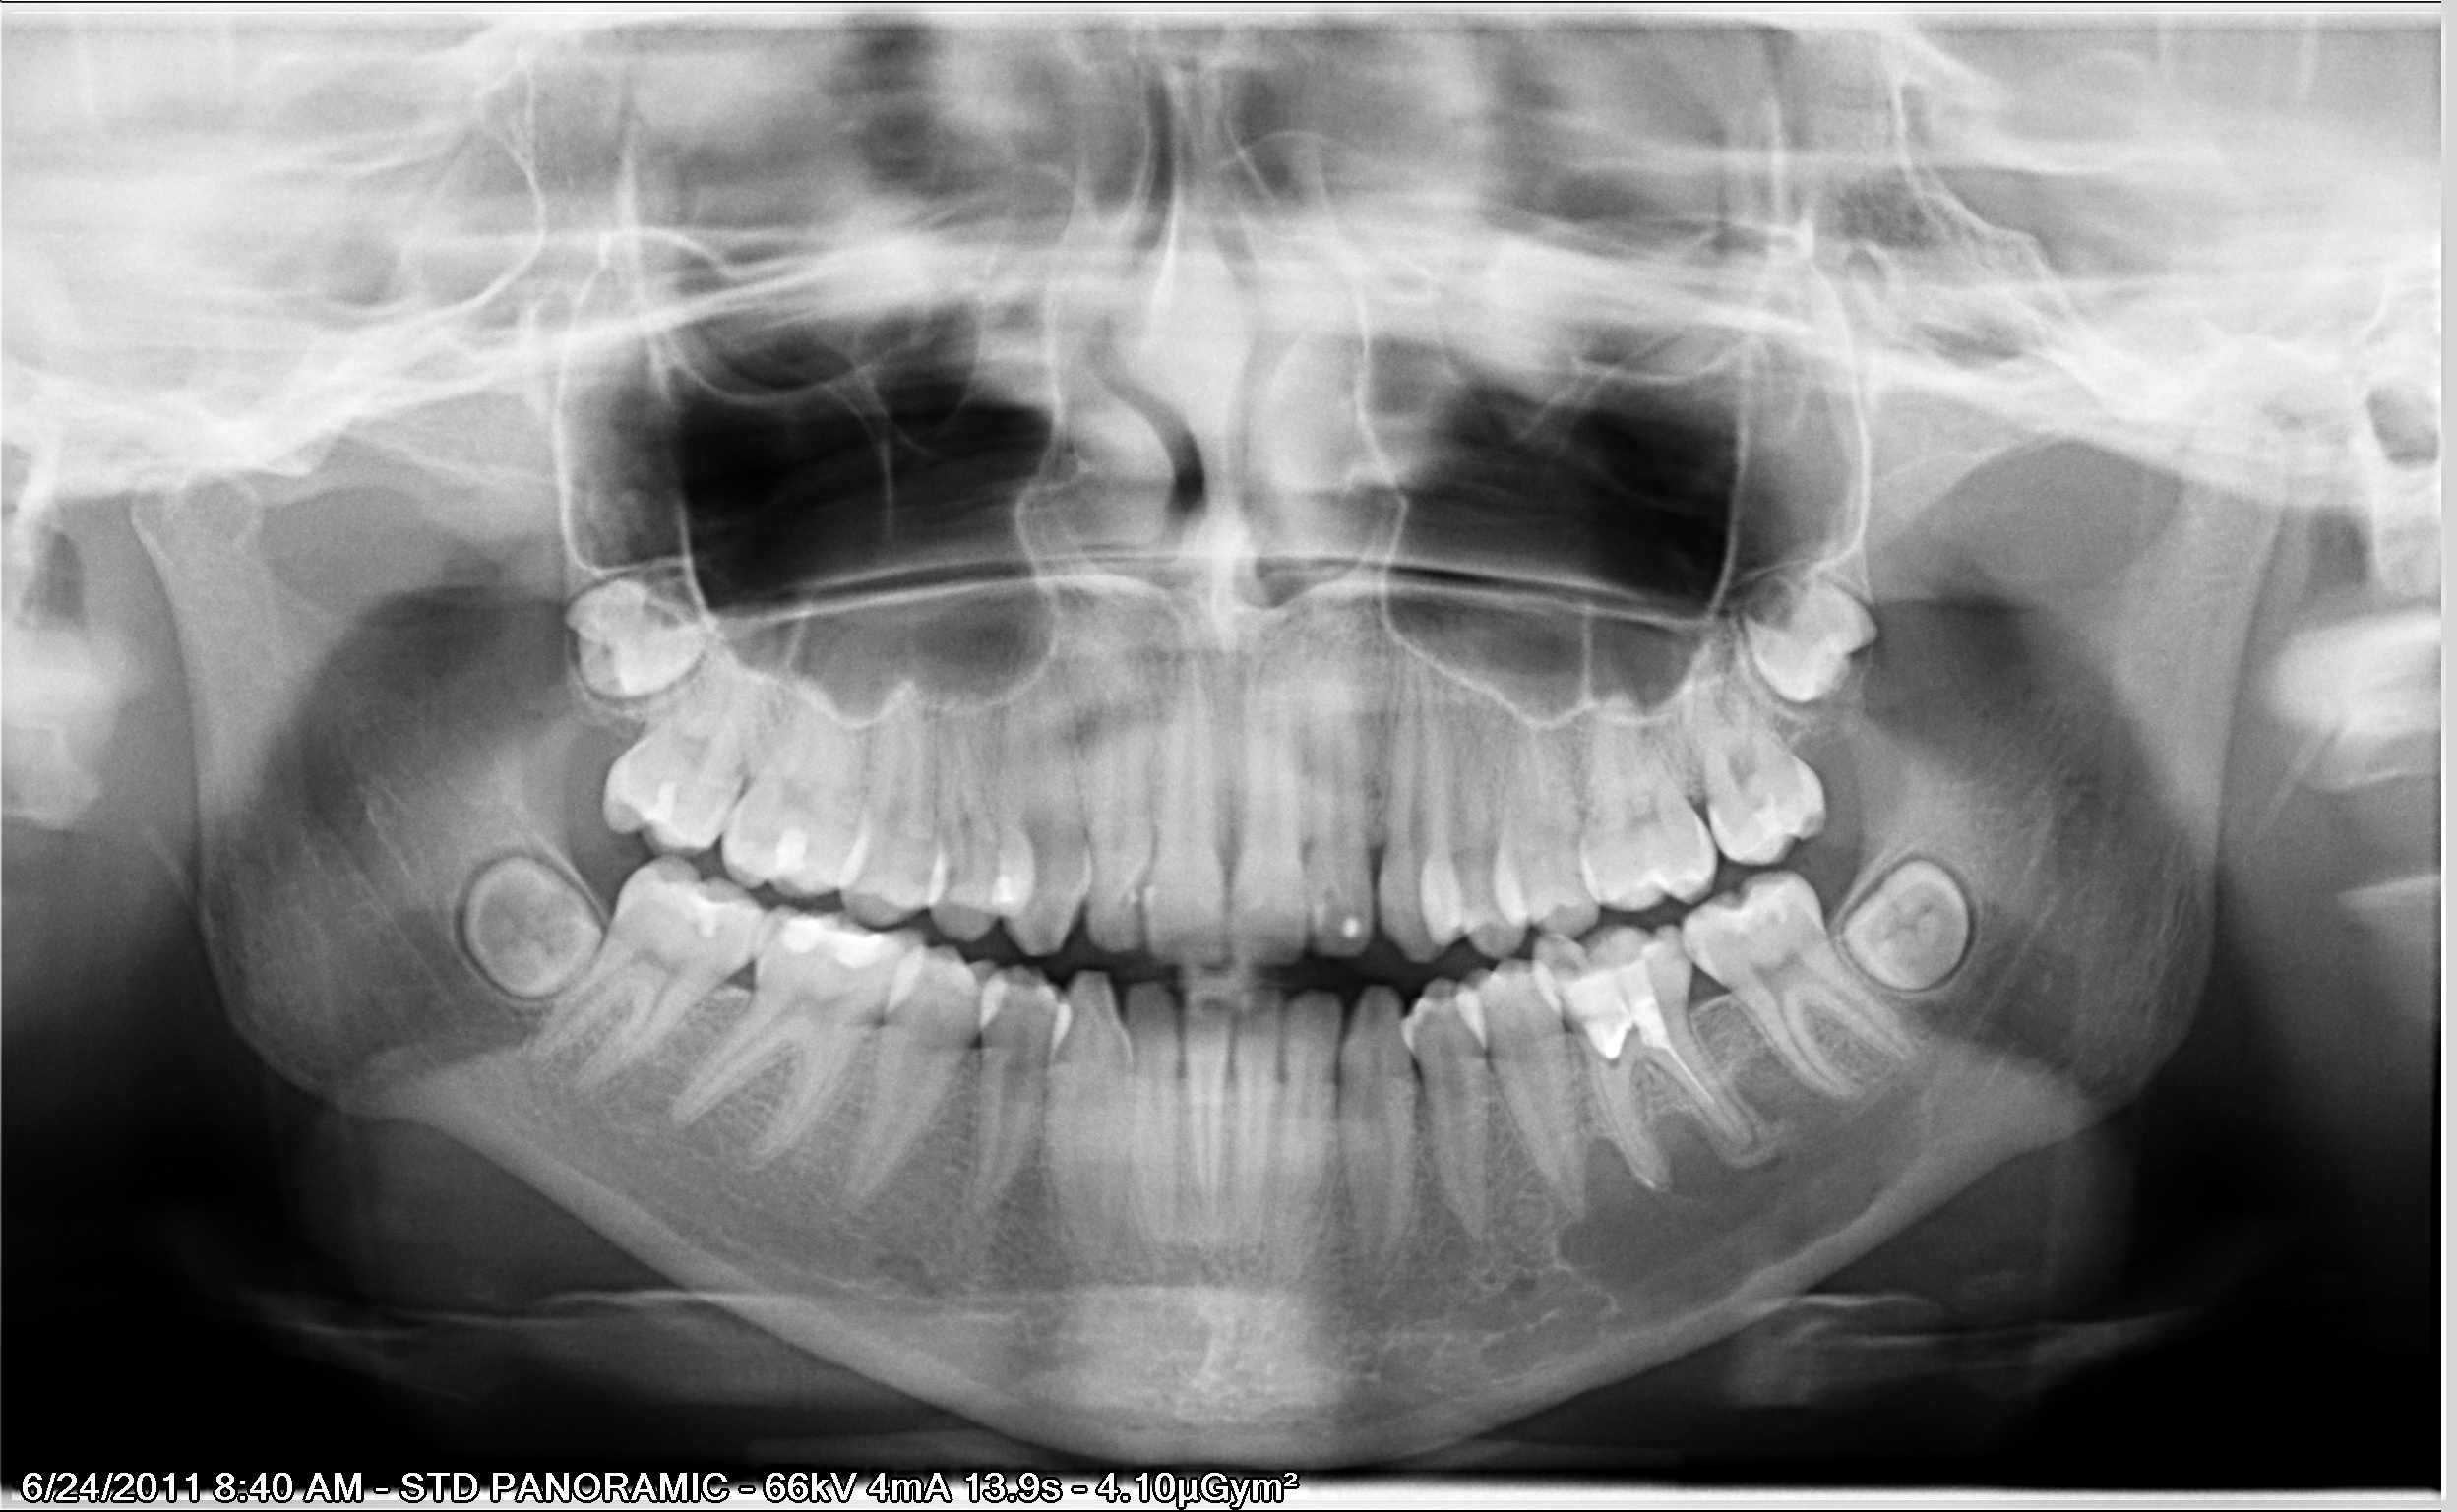BON: (537, 553, 741, 712), (441, 833, 612, 1014), (1829, 840, 1999, 1016), (1730, 549, 1890, 726)
END: (1562, 1042, 1774, 1175)
PRR: (1546, 945, 1676, 1065), (769, 902, 890, 981), (634, 765, 691, 844), (751, 814, 813, 888), (672, 879, 735, 947), (1746, 795, 1799, 852), (976, 867, 1032, 916), (1334, 895, 1374, 951)
